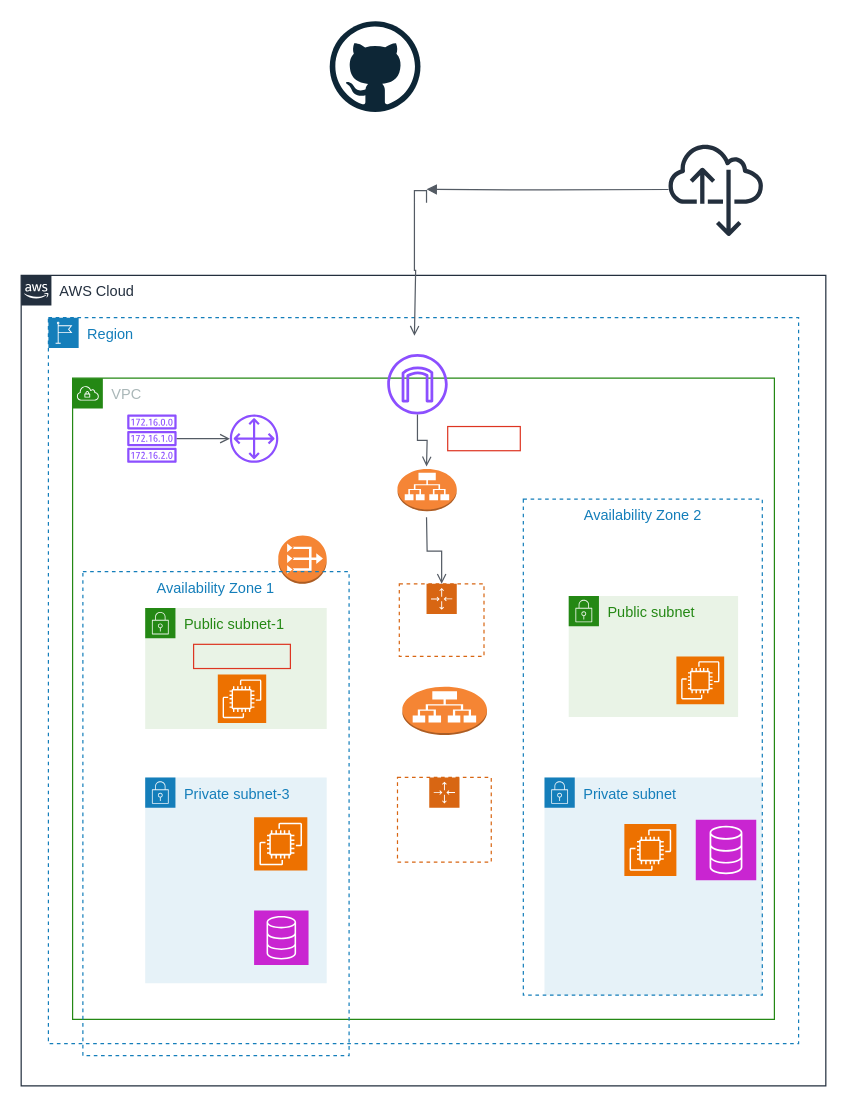
This 847x1107 diagram has some shape labels left out. Each missing label, with the centre of its shape:
ALB SG: the point at 483,438
Backend Auo SG: the point at 443,819
Frontend Auto SG: the point at 441,619
Security group: the point at 241,656
